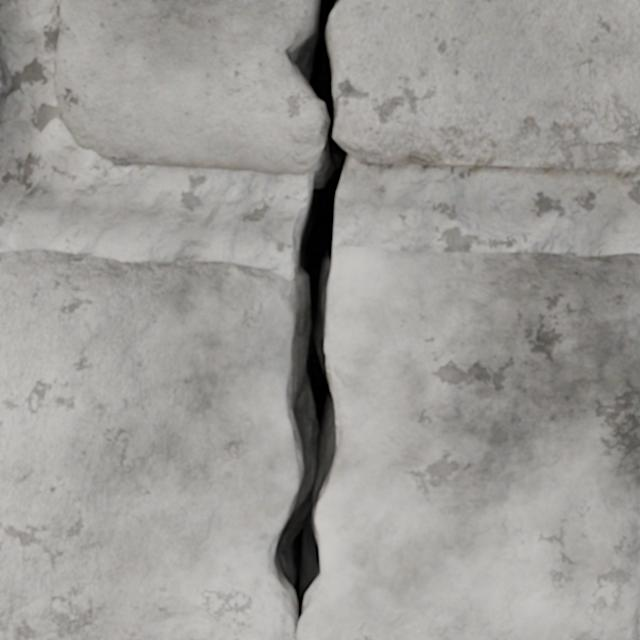broken_brick: (0, 246, 639, 639), (331, 0, 639, 172), (54, 0, 329, 175)
crack: (257, 0, 349, 628), (0, 34, 11, 113)
